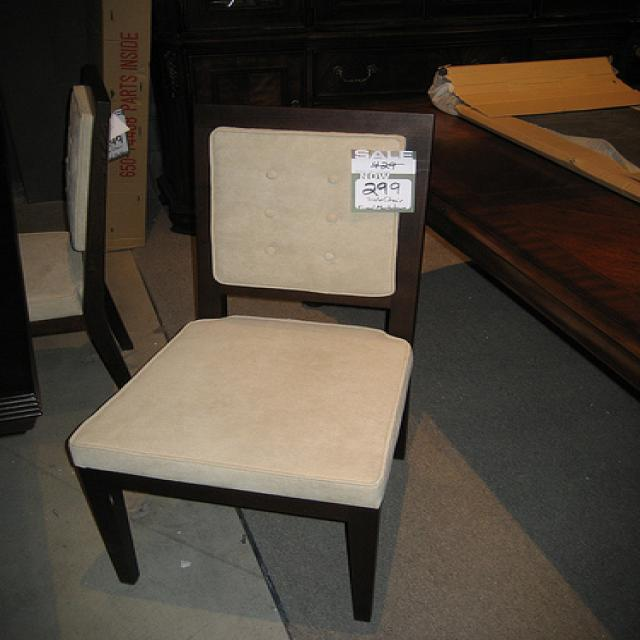chair: (64, 106, 438, 629)
